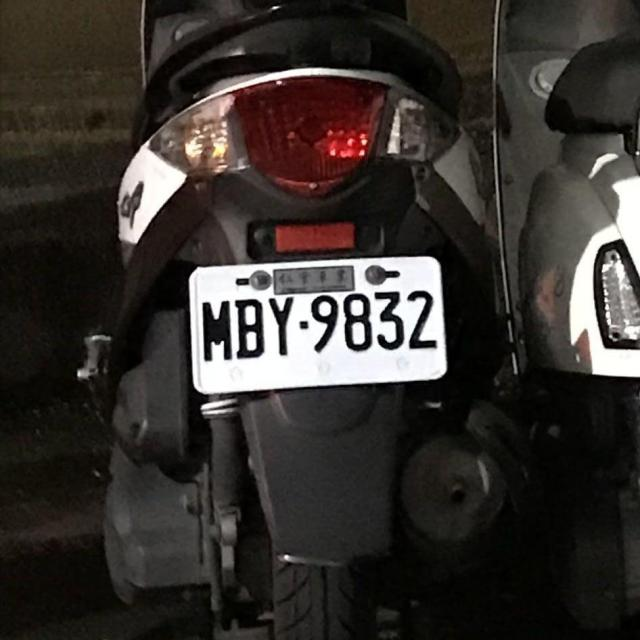W: (183, 246, 452, 397)
